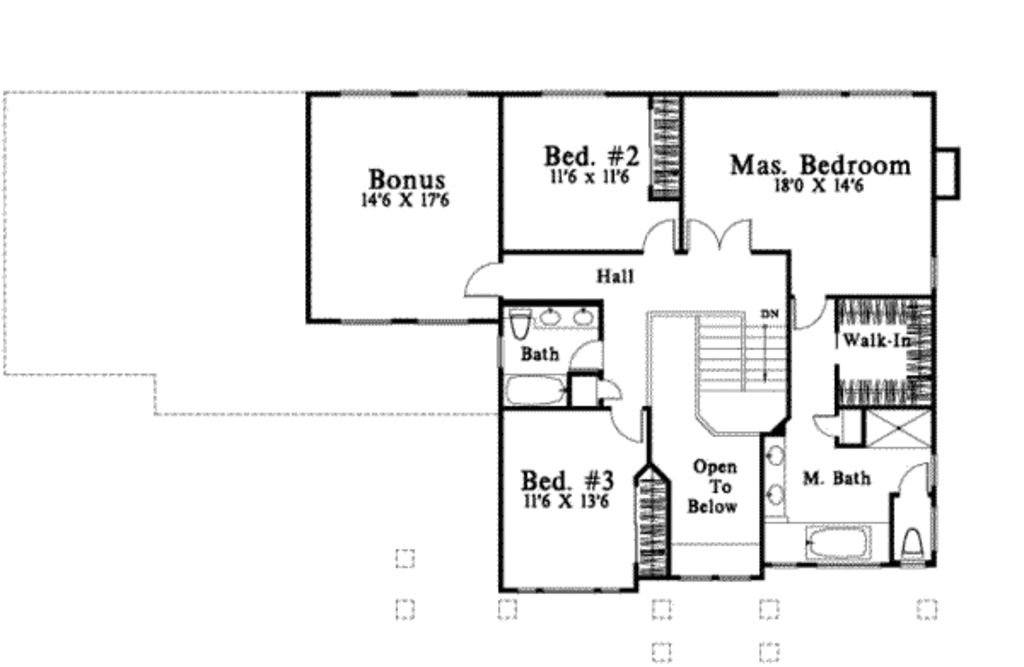door: (457, 254, 515, 300), (687, 215, 756, 251), (558, 335, 609, 371), (606, 405, 650, 445), (789, 291, 832, 331), (644, 213, 683, 256), (896, 459, 937, 498), (813, 404, 841, 439), (597, 374, 623, 399)
large_sink: (898, 523, 930, 567), (504, 304, 535, 339)
small_sink: (759, 431, 792, 523), (534, 305, 595, 331)
stairs: (686, 306, 792, 432)
tub: (797, 522, 873, 564), (504, 372, 568, 407)
